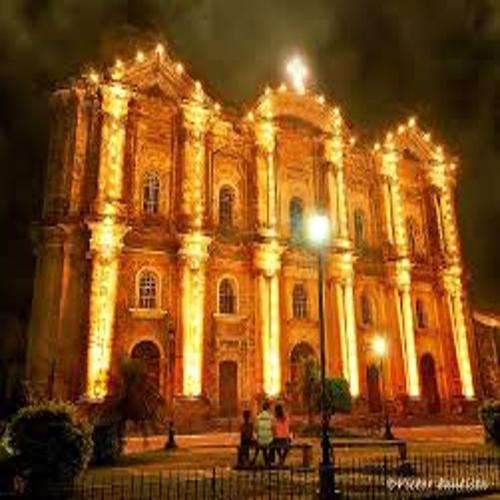Taal Basilica Church: (31, 28, 486, 442)
